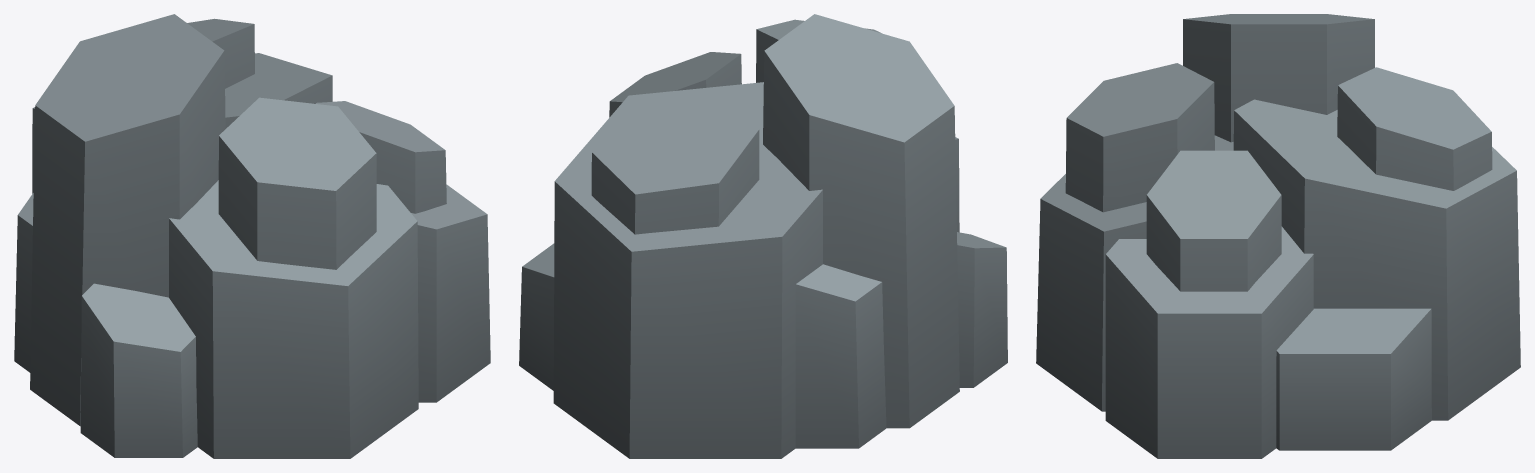
File: mountain_C.gltf
3 renders of one model, left to right at view 1: azimuth 30°, elevation 25°; view 2: azimuth 150°, elevation 25°; view 3: azimuth 270°, elevation 25°, orthographic. The views are drawn at different scales.
Visible parts, largest first — view 1: mountain_C; view 2: mountain_C; view 3: mountain_C.
Boxes of the visible parts, x1,y1,x2,y2 form: mountain_C: [14, 14, 490, 458]; mountain_C: [519, 14, 1007, 458]; mountain_C: [1036, 14, 1520, 458].
Size of the model in its own units: 1.76 by 1.51 by 2.02.
1 material, 1 textured.
